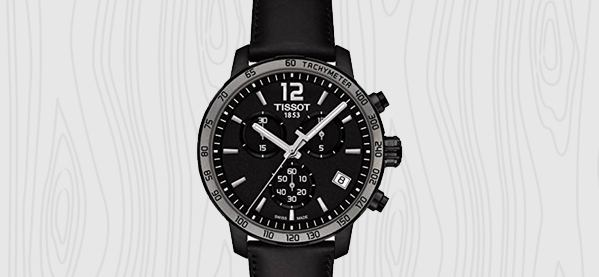clock: (194, 57, 388, 246)
